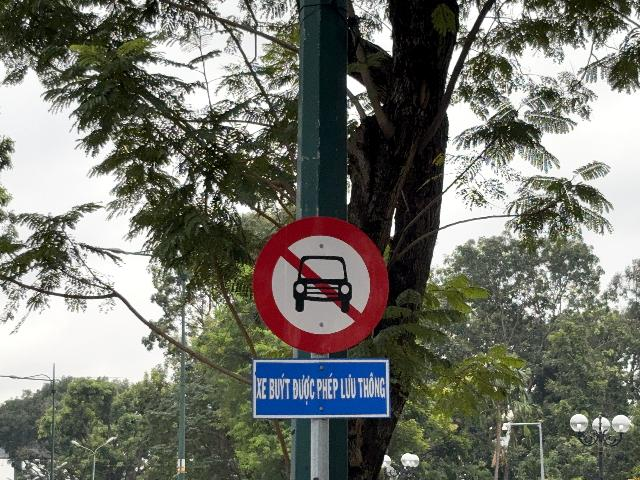cam-o-to: (253, 216, 390, 354)
